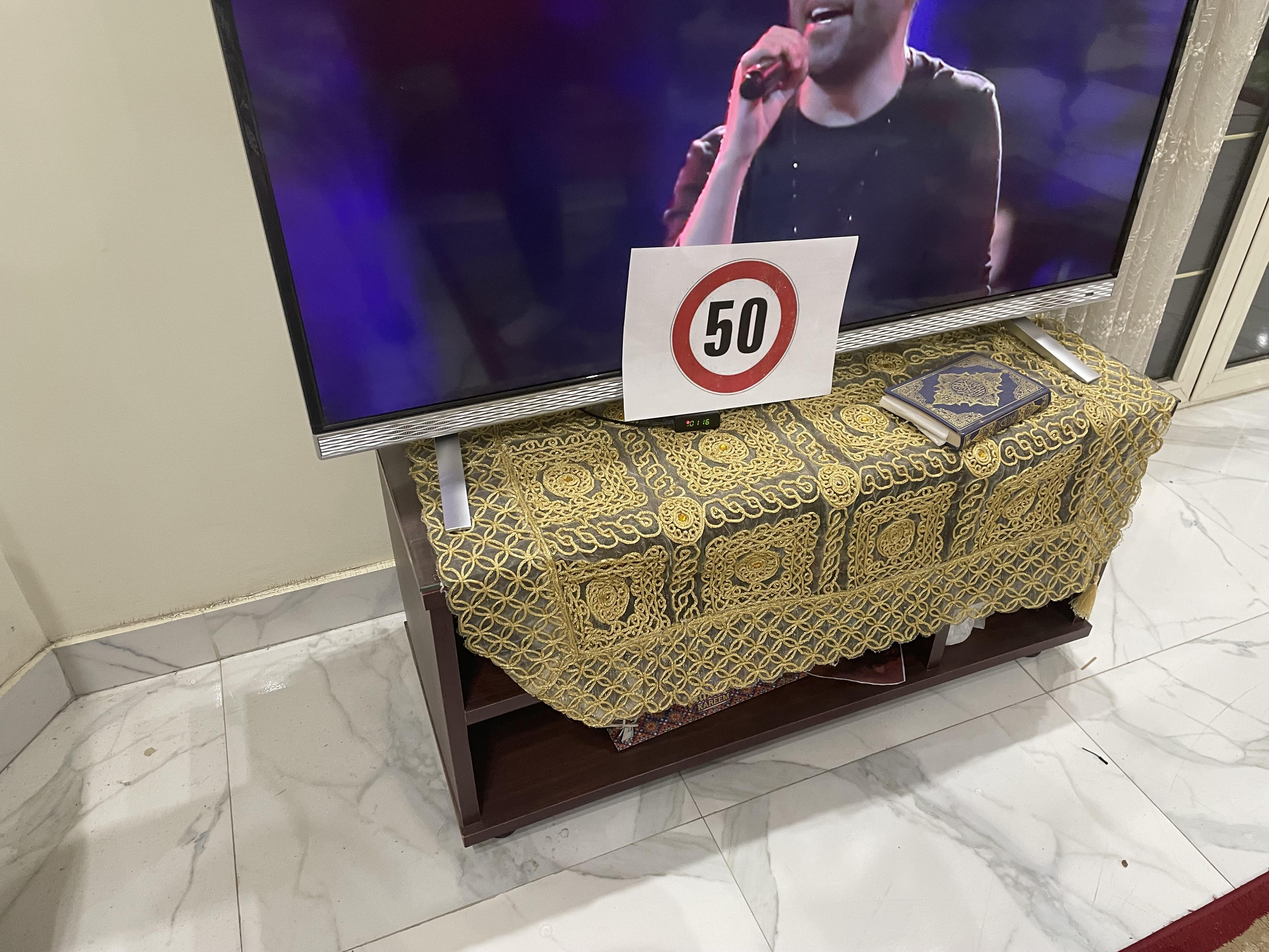50-Speed: (671, 254, 809, 399)
